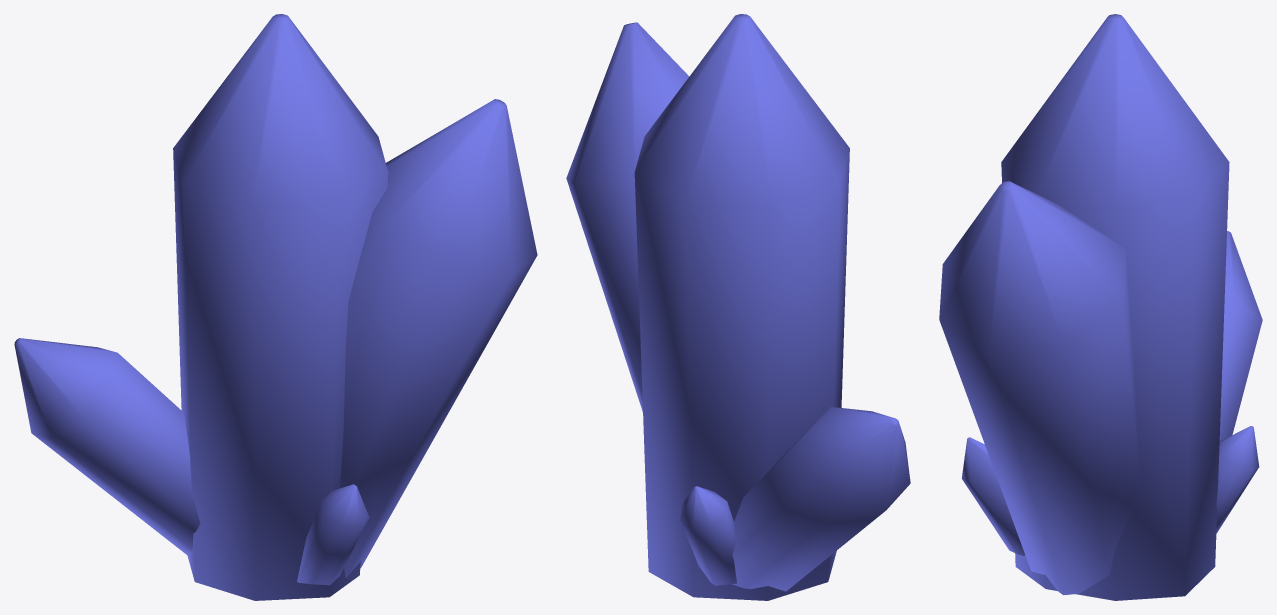
The model's file is 棒球場 - 水晶.fbx.
3 views of the same model, side by side, from view 1: azimuth 30°, elevation 25°; view 2: azimuth 150°, elevation 25°; view 3: azimuth 270°, elevation 25° (orthographic).
Visible parts, largest first — view 1: 水晶; view 2: 水晶; view 3: 水晶.
Part boxes in pixels (<box>): 水晶: <box>14,14,537,600</box>; 水晶: <box>566,14,910,600</box>; 水晶: <box>939,14,1262,600</box>.
Bounding box in the file's own units: 8682 × 10970 × 5842.
